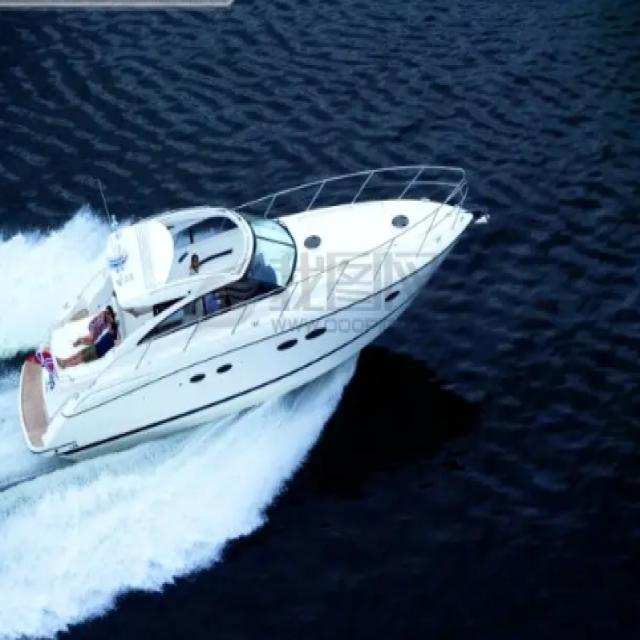houseboat: (19, 156, 468, 449)
